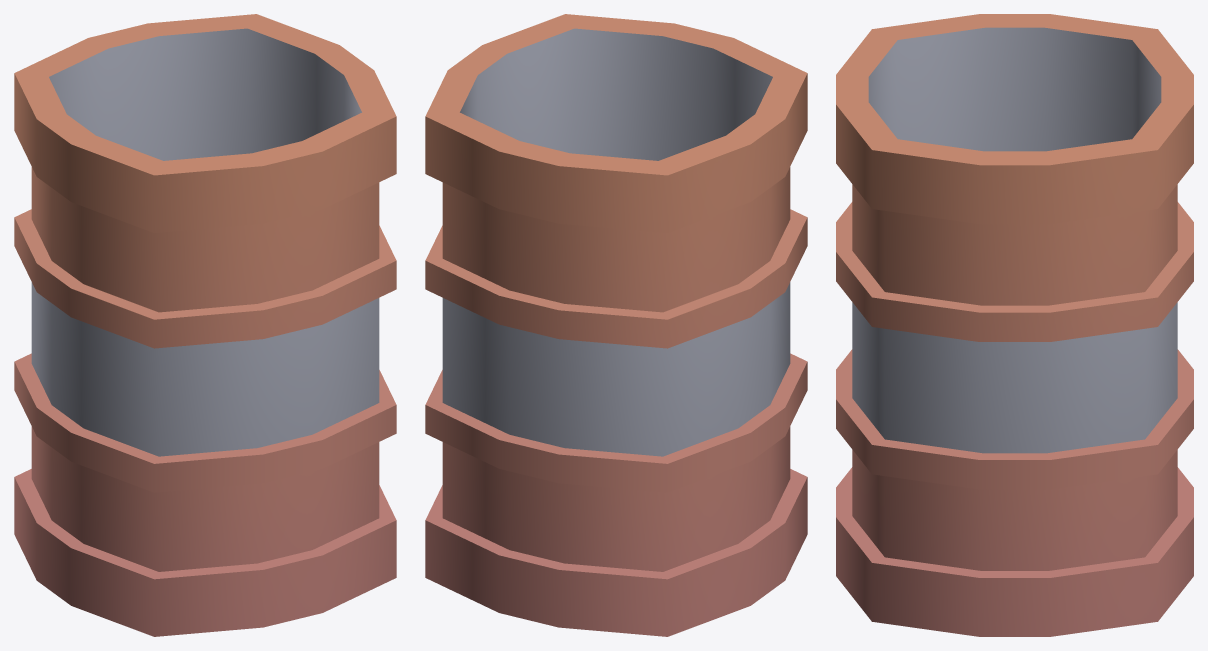
Rendered from barrel-open.glb.
3 renders of one model, left to right at view 1: azimuth 30°, elevation 25°; view 2: azimuth 150°, elevation 25°; view 3: azimuth 270°, elevation 25°, orthographic. The views are drawn at different scales.
Visible parts, largest first — view 1: barrel-open; view 2: barrel-open; view 3: barrel-open.
Boxes of the visible parts, box(x1,y1,x2,y2) form: barrel-open: box(14, 14, 396, 636); barrel-open: box(425, 14, 807, 636); barrel-open: box(836, 14, 1193, 636).
Bounding box in the file's own units: 0.2365 × 0.344 × 0.2365.
